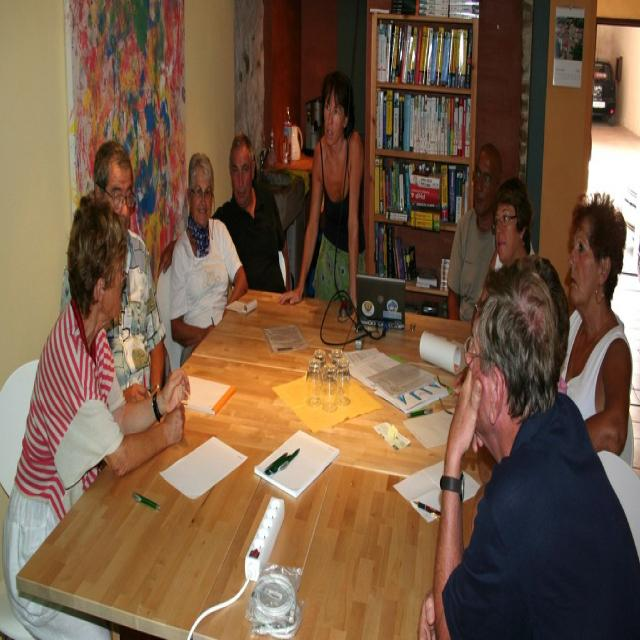chair: (0, 356, 39, 500), (596, 448, 640, 565)
desk: (17, 351, 492, 639)
person: (2, 194, 188, 636), (421, 260, 638, 636), (93, 138, 183, 430), (559, 193, 634, 464), (284, 69, 366, 306), (170, 149, 251, 363), (213, 130, 293, 294), (446, 141, 502, 322), (483, 177, 536, 286)
